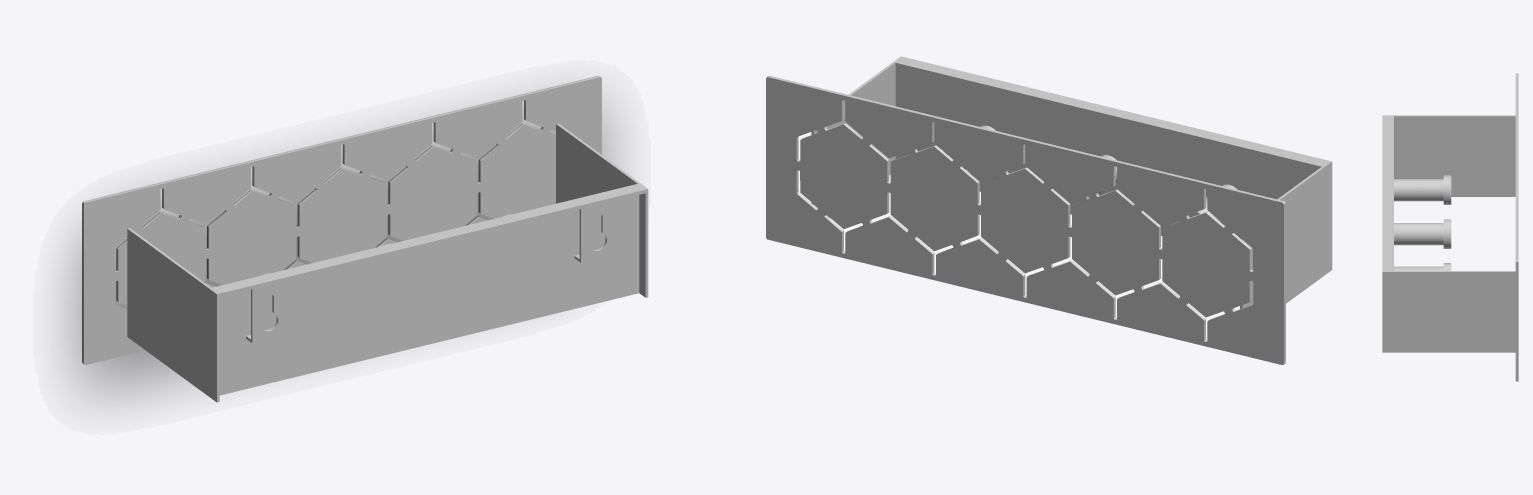
File: bee-hook.38f08d7859.ar.glb
The picture shows the model from 3 angles, left to right: view 1: azimuth 30°, elevation 25°; view 2: azimuth 150°, elevation 25°; view 3: azimuth 270°, elevation 25°; orthographic projection. The views are drawn at different scales.
Visible parts, largest first — view 1: NAUO1, object 2; view 2: NAUO1; view 3: NAUO1.
Boxes of the visible parts, x1,y1,x2,y2 form: NAUO1: [82, 75, 648, 402]; object 2: [67, 104, 616, 396]; NAUO1: [766, 56, 1332, 364]; NAUO1: [1382, 73, 1518, 381].
Bounding box in the file's own units: 0.38 × 0.17 × 0.092.
Materials: 2 (1 with a texture image).
